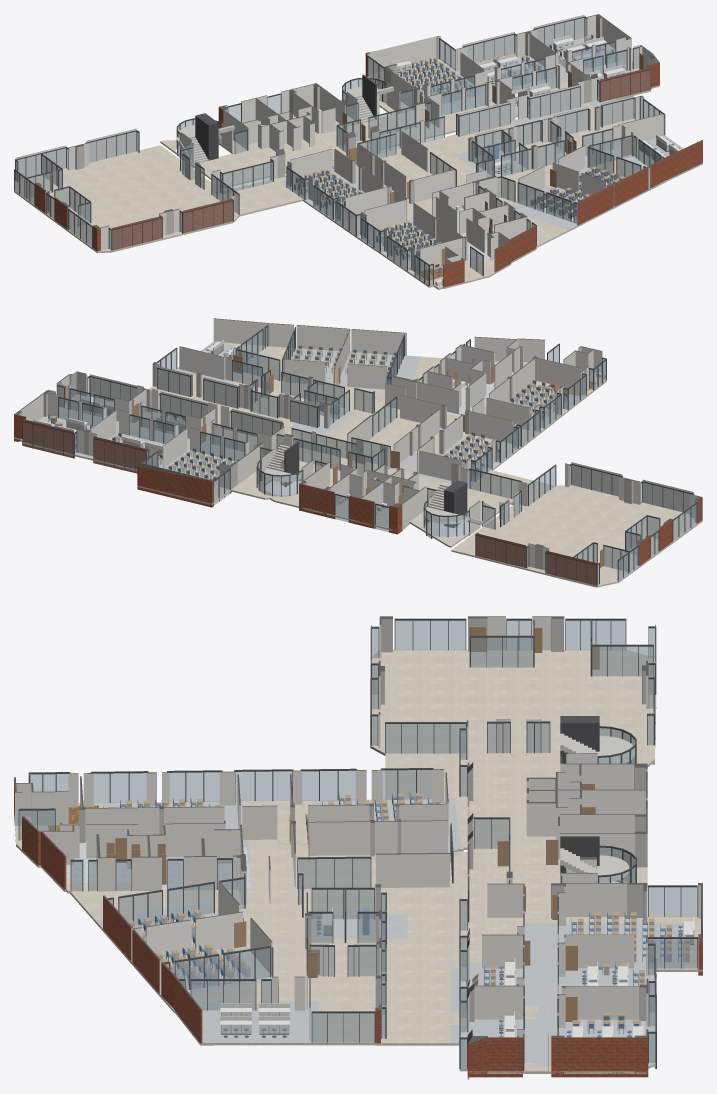
Rendered from floor-3.glb.
3 views of the same model, one above another, from view 1: azimuth 30°, elevation 25°; view 2: azimuth 150°, elevation 25°; view 3: azimuth 270°, elevation 25° (orthographic). The views are drawn at different scales.
Parts seen in each view (by area): view 1: P3_Walls, P3_Glass, P3_Floor_Slab, P3_Glass_Mullions, P3_Floor_Zones, P3_Columns, P3_Glass_Frames_Top, P3_Furniture_3_3, P3_Doors, P3_Stair_A_West, P3_Furniture_2_3, P3_Furniture_1_1 (+4 smaller); view 2: P3_Walls, P3_Glass, P3_Floor_Slab, P3_Glass_Mullions, P3_Floor_Zones, P3_Columns, P3_Glass_Frames_Top, P3_Doors, P3_Stair_A_West, P3_Furniture_3_3, P3_Stair_A_East, P3_Furniture_1_1 (+4 smaller); view 3: P3_Floor_Slab, P3_Walls, P3_Glass, P3_Floor_Zones, P3_Columns, P3_Glass_Mullions, P3_Glass_Frames_Top, P3_Doors, P3_Furniture_3_3, P3_Stair_A_West, P3_Furniture_3_1, P3_Stair_A_East (+4 smaller).
Part boxes in pixels (left/top/right/bottom): P3_Walls: left=15, top=15, right=702, bottom=287; P3_Glass: left=14, top=18, right=664, bottom=285; P3_Floor_Slab: left=14, top=38, right=702, bottom=289; P3_Glass_Mullions: left=14, top=17, right=665, bottom=285; P3_Floor_Zones: left=278, top=38, right=683, bottom=280; P3_Columns: left=35, top=14, right=659, bottom=260; P3_Glass_Frames_Top: left=14, top=16, right=664, bottom=265; P3_Furniture_3_3: left=429, top=34, right=625, bottom=105; P3_Doors: left=49, top=53, right=643, bottom=265; P3_Stair_A_West: left=176, top=113, right=234, bottom=164; P3_Furniture_2_3: left=390, top=58, right=462, bottom=102; P3_Furniture_1_1: left=376, top=221, right=441, bottom=276; P3_Walls: left=17, top=318, right=698, bottom=585; P3_Glass: left=23, top=327, right=696, bottom=585; P3_Floor_Slab: left=14, top=341, right=702, bottom=587; P3_Glass_Mullions: left=22, top=325, right=697, bottom=585; P3_Floor_Zones: left=21, top=341, right=596, bottom=527; P3_Columns: left=14, top=356, right=702, bottom=569; P3_Glass_Frames_Top: left=23, top=325, right=697, bottom=565; P3_Doors: left=65, top=354, right=602, bottom=567; P3_Stair_A_West: left=424, top=480, right=483, bottom=527; P3_Furniture_3_3: left=33, top=399, right=196, bottom=470; P3_Stair_A_East: left=264, top=441, right=302, bottom=486; P3_Furniture_1_1: left=507, top=380, right=567, bottom=421; P3_Floor_Slab: left=14, top=649, right=702, bottom=1079; P3_Walls: left=14, top=616, right=702, bottom=1077; P3_Glass: left=19, top=620, right=697, bottom=1068; P3_Floor_Zones: left=48, top=798, right=684, bottom=1068; P3_Columns: left=78, top=616, right=648, bottom=1077; P3_Glass_Mullions: left=18, top=618, right=697, bottom=1070; P3_Glass_Frames_Top: left=19, top=618, right=697, bottom=1039; P3_Doors: left=80, top=626, right=599, bottom=1021; P3_Furniture_3_3: left=499, top=949, right=689, bottom=1037; P3_Stair_A_West: left=560, top=716, right=634, bottom=763; P3_Furniture_3_1: left=161, top=955, right=251, bottom=1037; P3_Stair_A_East: left=560, top=836, right=629, bottom=882.
Size of the model in its own units: 77.07 by 5.09 by 52.46.
21 materials, 5 textured.
